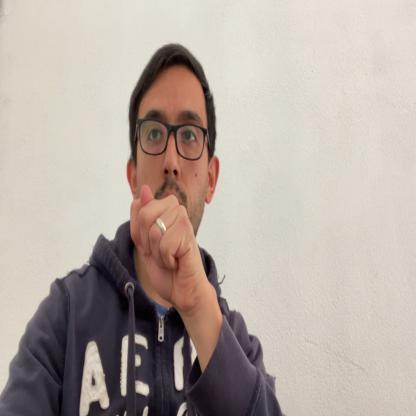T: (130, 182, 199, 310)
